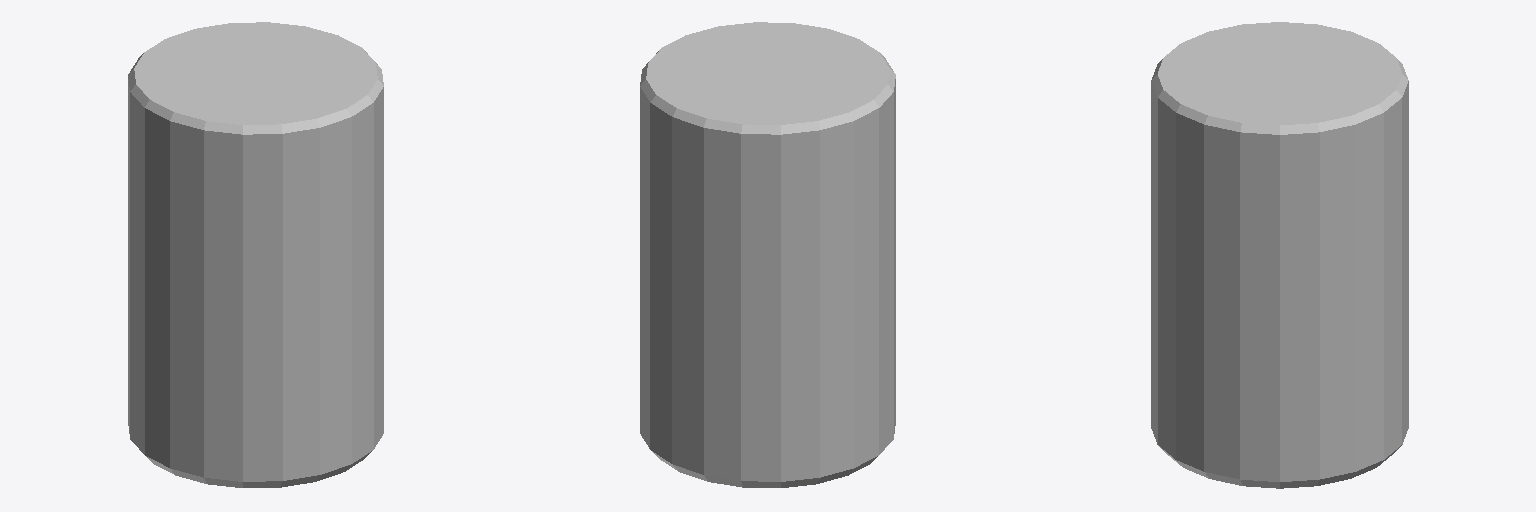
Rendered from mountainDew.obj.
3 renders of one model, left to right at view 1: azimuth 30°, elevation 25°; view 2: azimuth 150°, elevation 25°; view 3: azimuth 270°, elevation 25°, orthographic.
Parts seen in each view (by area): view 1: Mountain_Dew:pCylinder1; view 2: Mountain_Dew:pCylinder1; view 3: Mountain_Dew:pCylinder1.
Boxes of the visible parts, x1=… form: Mountain_Dew:pCylinder1: x1=128, y1=22, x2=383, y2=487; Mountain_Dew:pCylinder1: x1=640, y1=22, x2=895, y2=487; Mountain_Dew:pCylinder1: x1=1151, y1=22, x2=1408, y2=488.
Bounding box in the file's own units: 0.7473 × 1.17 × 0.7473.